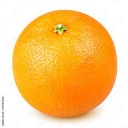orange: (10, 8, 120, 119)
